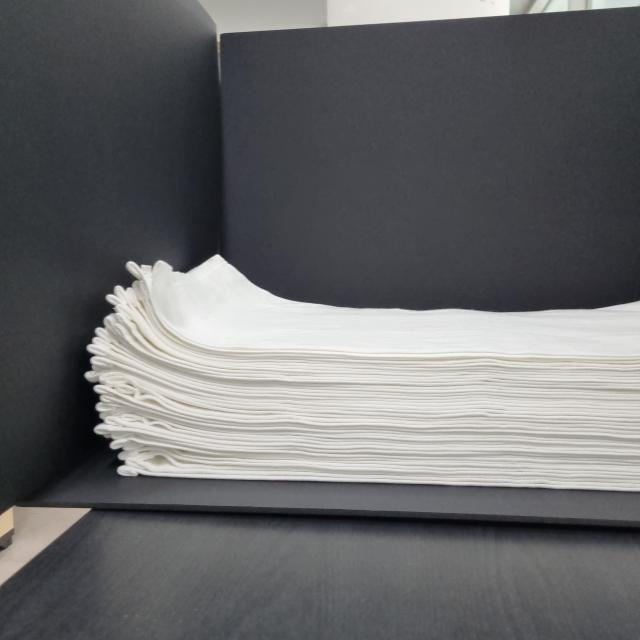not_50count_towel: (80, 226, 640, 496)
